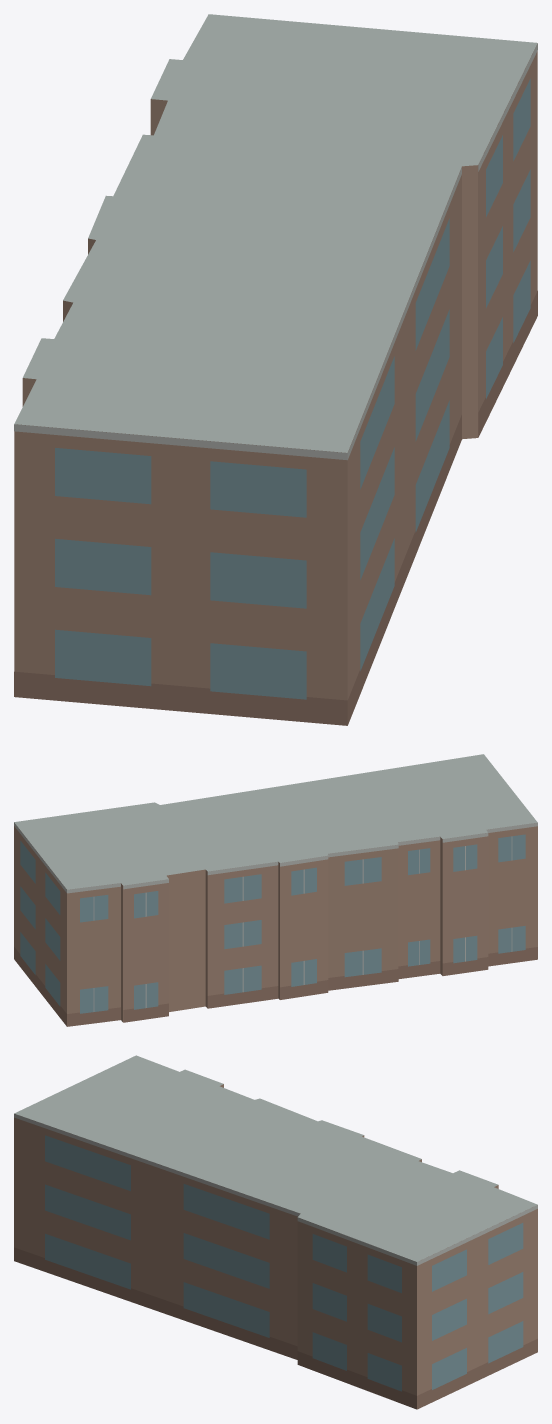
The model's file is survey-upis-32712090.glb.
3 views of the same model, one above another, from view 1: azimuth 30°, elevation 25°; view 2: azimuth 150°, elevation 25°; view 3: azimuth 270°, elevation 25° (orthographic). The views are drawn at different scales.
Visible parts, largest first — view 1: survey-upis-32712090.tmp; view 2: survey-upis-32712090.tmp; view 3: survey-upis-32712090.tmp.
Part boxes in pixels (x1=…): survey-upis-32712090.tmp: x1=14, y1=14, x2=537, y2=725; survey-upis-32712090.tmp: x1=14, y1=754, x2=537, y2=1026; survey-upis-32712090.tmp: x1=14, y1=1055, x2=537, y2=1409.
Bounding box in the file's own units: 27.5 × 9.15 × 29.45.
